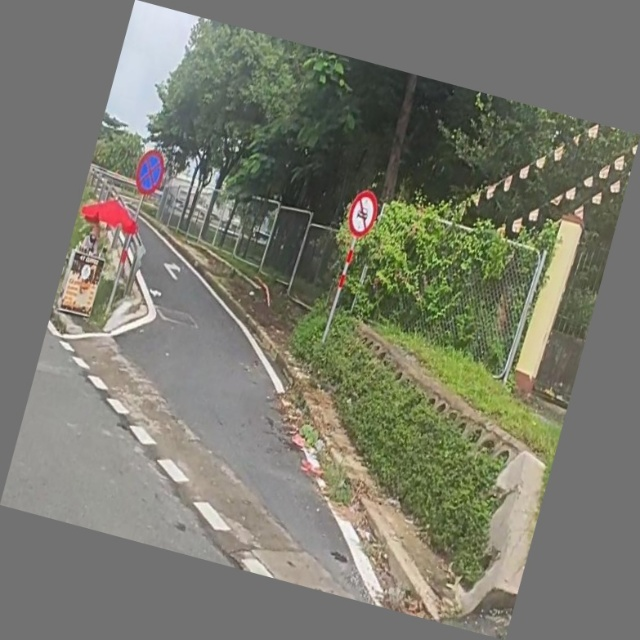P.103a: (344, 187, 382, 242)
P.130: (131, 147, 170, 200)
